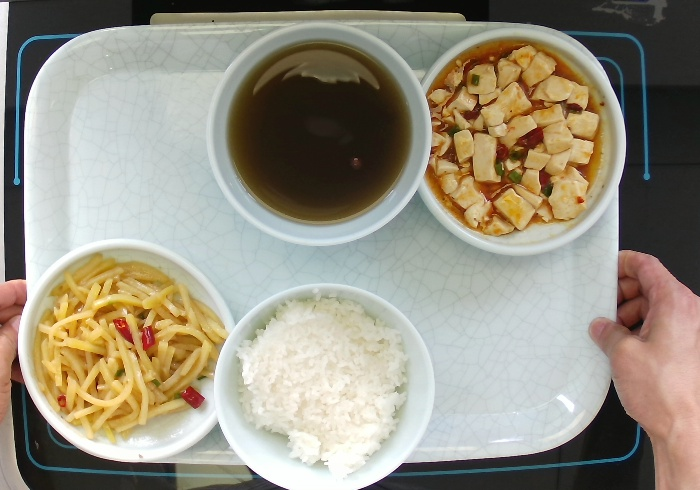JYsf-Fan_Wan: (203, 18, 435, 247), (211, 280, 436, 490)
JYsf-Xiao_Yuan_Pan: (16, 236, 237, 463), (417, 25, 629, 259)
